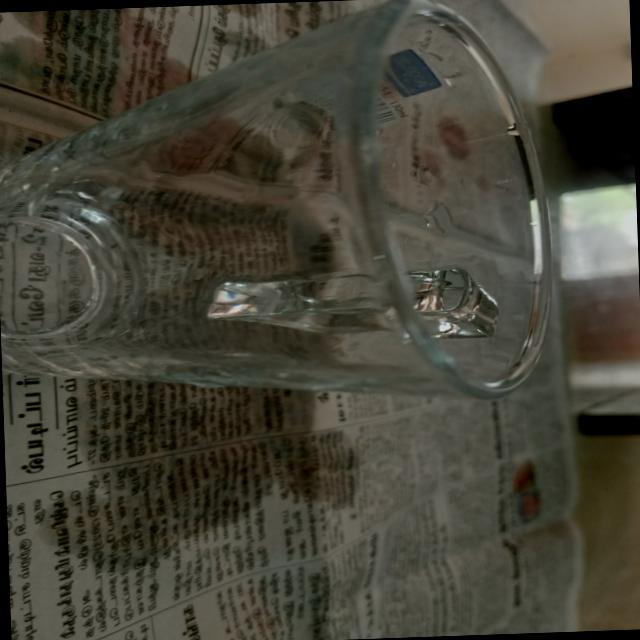glass-VX4N: (0, 0, 559, 413)
